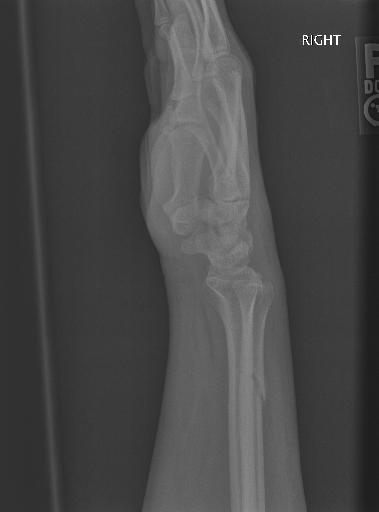fractured: (220, 358, 280, 406)
